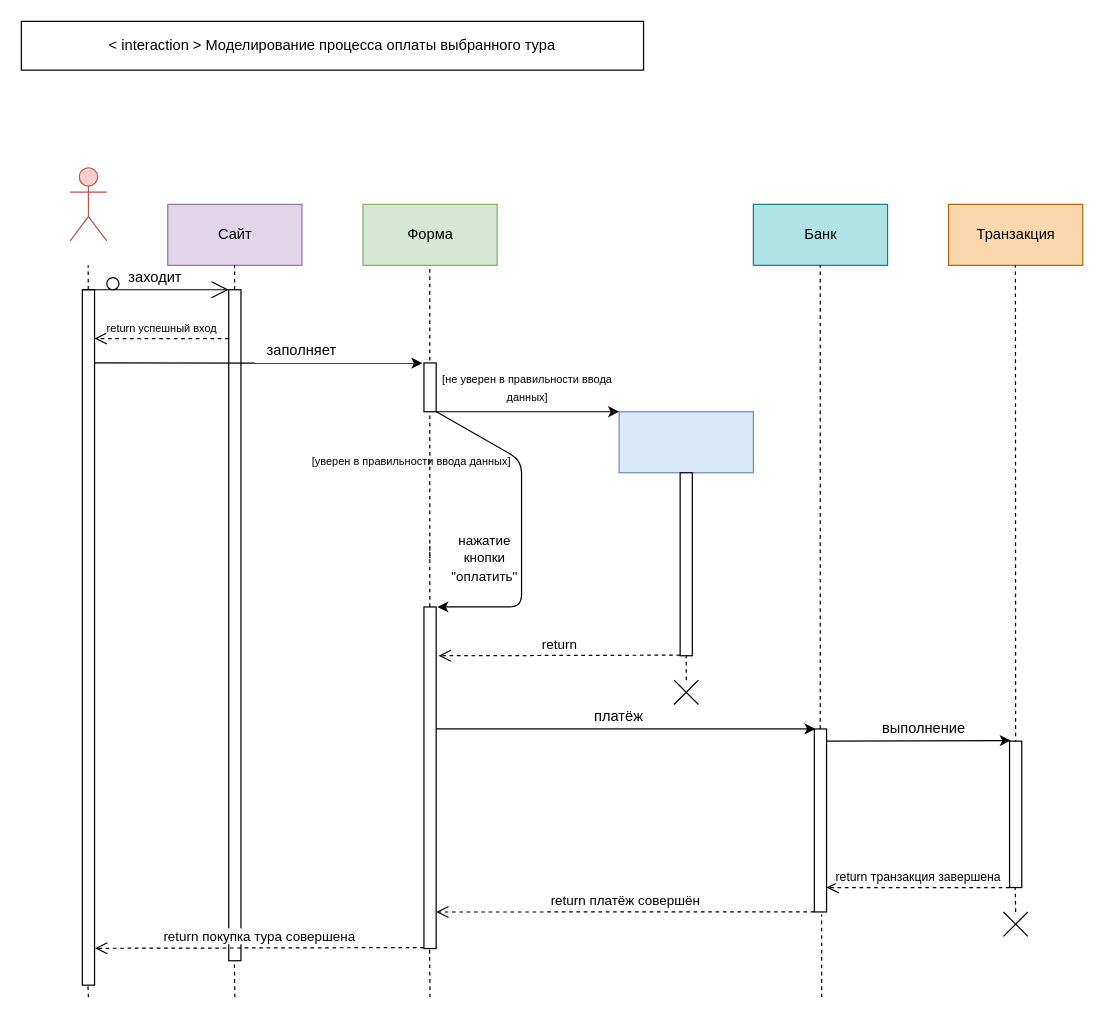
Image size: 1104x1020. Some labels were removed from this diagram. Here are the shapes that lost their labels. From the top down, the centre of each, then its label:
the point at 88,204: Клиент
the point at 685,442: Проверка данных
